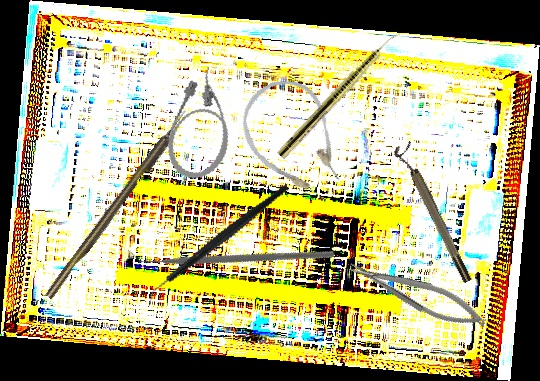Cannula: (226, 66, 360, 211), (160, 61, 246, 186)
Chopper: (126, 154, 337, 351), (127, 183, 310, 307)
Fixation Ring: (391, 140, 475, 288)
Handpiece: (276, 26, 403, 162)
Hook Surgical: (43, 108, 192, 301)
Needle Holder: (345, 248, 491, 339)
